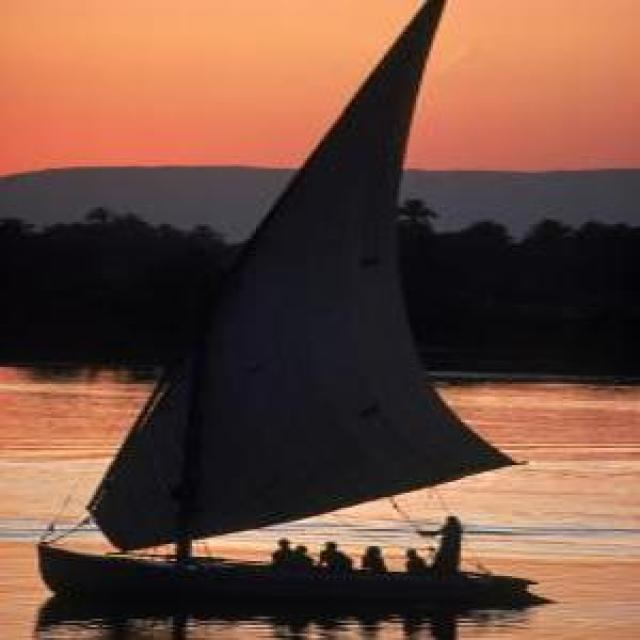sailboat: (38, 0, 541, 609)
